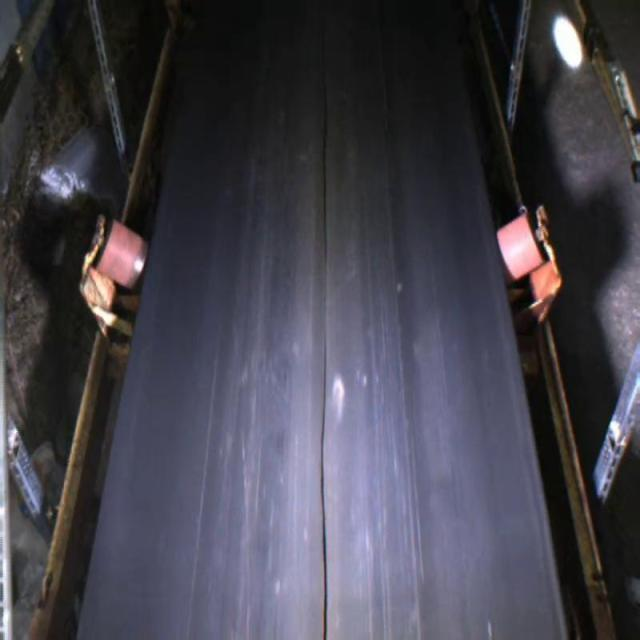Tear: (306, 51, 343, 640)
